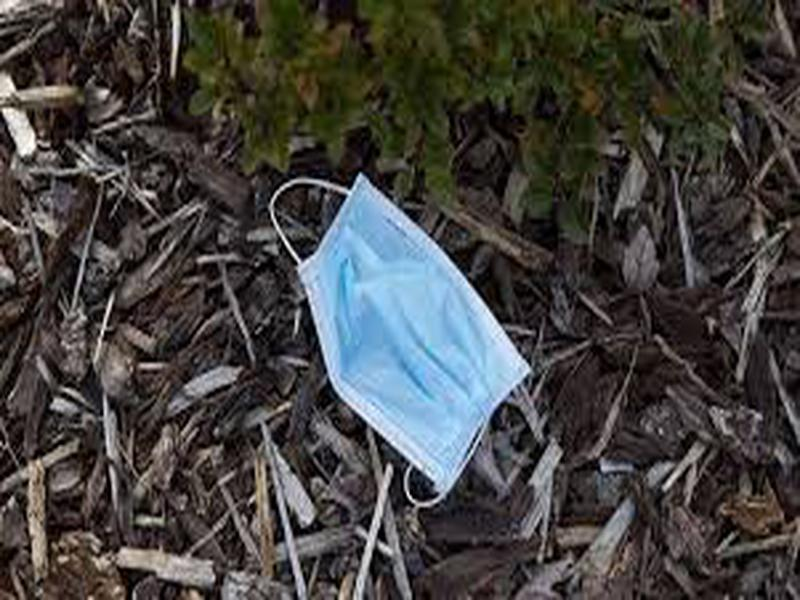mask: (261, 164, 538, 510)
